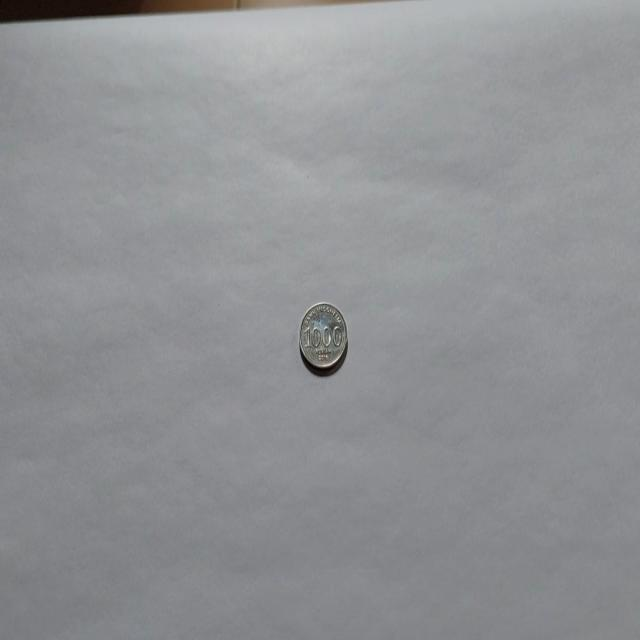seribu rupiah koin: (298, 300, 348, 372)
